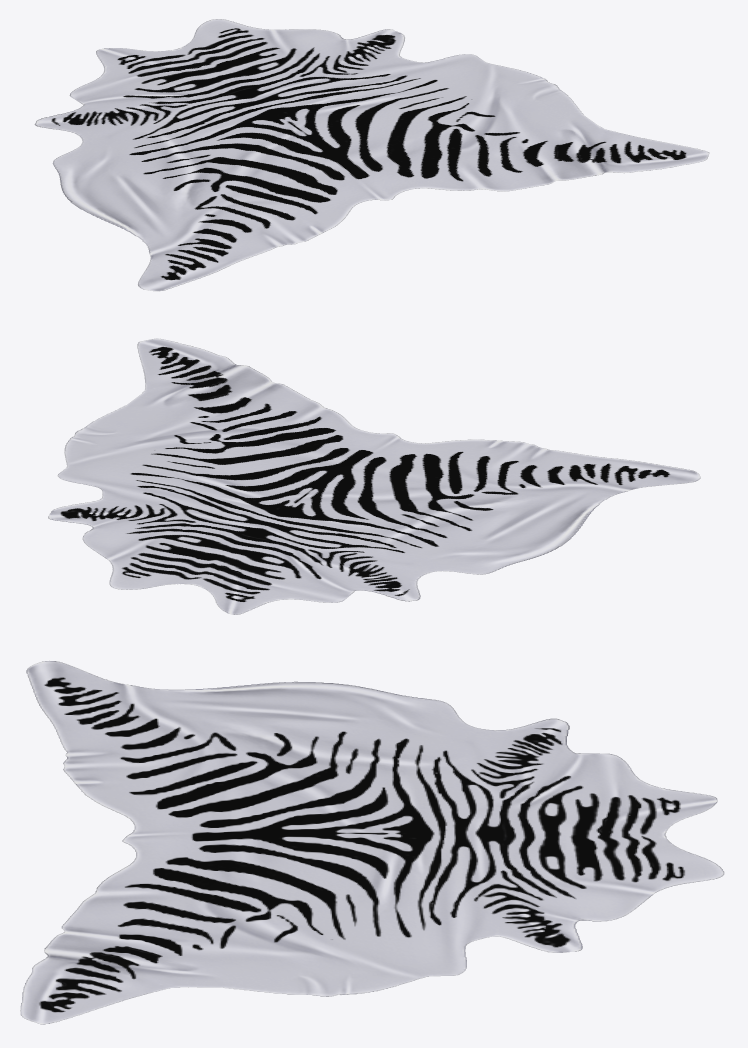
The model's file is Carpet03.FBX.
3 renders of one model, top to bottom at view 1: azimuth 30°, elevation 25°; view 2: azimuth 150°, elevation 25°; view 3: azimuth 270°, elevation 25°, orthographic. The views are drawn at different scales.
Parts seen in each view (by area): view 1: Carpet03; view 2: Carpet03; view 3: Carpet03.
Part boxes in pixels (x1,y1,x2,y2): Carpet03: (34, 19, 709, 291); Carpet03: (48, 338, 700, 614); Carpet03: (20, 661, 724, 1024).
Size of the model in its own units: 95.72 by 75.51 by 1.38.
